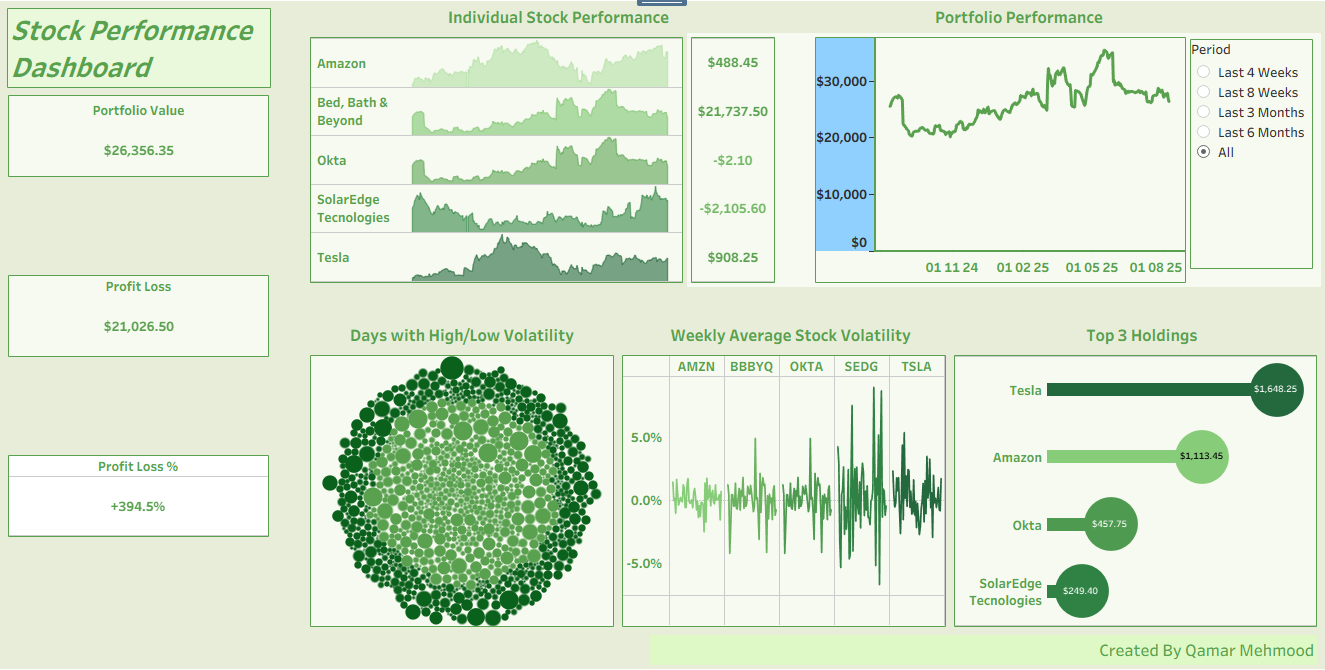

The page's visual inventory and layout, read from the dashboard file:
{"tool":"tableau","page":{"name":"Dashboard 1","canvas":[1000,1000],"units":"permille","ordinal":0},"visuals":[{"type":"text","box":[249.5,11.7,354.9,46.8]},{"type":"text","box":[604.4,11.7,292.1,46.8]},{"type":"text","box":[39.4,21.9,185.5,117]},{"type":"worksheet","title":"Stock Area chart","mark":"Area","rows":["Calculation_1162491695079321600","Close"],"cols":["Day"],"box":[249.5,58.5,267.9,371.3]},{"type":"worksheet","title":"P/L","mark":"Automatic","rows":["Stock"],"box":[517.3,58.5,64.7,371.3]},{"type":"worksheet","title":"Portfolio Line Chart","mark":"Automatic","rows":["Calculation_1162491695132364805"],"cols":["Day"],"box":[604.5,58.5,266.3,371.3]},{"type":"parameter","param":"[Parameters].[Parameter 1]","box":[870.7,67.2,86.4,336.3]},{"type":"worksheet","title":"Portfolio Value Card","mark":"Automatic","cols":["Calculation_557883445405663234"],"box":[37.2,143.3,189,131.6]},{"type":"worksheet","title":"Profit/Loss Card","mark":"Automatic","cols":["Calculation_557883445407555587"],"box":[37.2,406.4,189,131.6]},{"type":"text","box":[249.5,476.6,219.3,46.8]},{"type":"text","box":[468.7,476.6,242.4,46.8]},{"type":"text","box":[711.1,476.6,251.6,46.8]},{"type":"worksheet","title":"Bubble Chart","mark":"Circle","box":[249.5,523.4,219.3,409.4]},{"type":"worksheet","title":"Volatility Chart","mark":"Automatic","rows":["Daily % Change"],"cols":["Stock","week"],"box":[468.7,523.4,233.3,409.4]},{"type":"worksheet","title":"Lolipop Chart","mark":"Automatic","rows":["Calculation_1162491695079321600"],"cols":["Calculation_1162491695100203011","Calculation_1162491695100203011"],"box":[702,523.4,260.7,409.4]},{"type":"worksheet","title":"Profit Loss % Card ","mark":"Automatic","cols":["Calculation_557883445410455557"],"box":[37.2,669.6,189,131.6]},{"type":"text","box":[488.5,932.7,474.2,55.6]}]}

Visuals, with their boxes on the dashboard's canvas, which has no fixed pixel size, in thousandths of its width and height (x1, y1, x2, y2). These are canvas units, not pixel positions in the 1325x670 screenshot, which may show the page scaled, cropped or inside an application window:
text: 250/12/604/58
text: 604/12/896/58
text: 39/22/225/139
"Stock Area chart" worksheet (Area marks): 250/58/517/430
"P/L" worksheet: 517/58/582/430
"Portfolio Line Chart" worksheet: 604/58/871/430
parameter: 871/67/957/404
"Portfolio Value Card" worksheet: 37/143/226/275
"Profit/Loss Card" worksheet: 37/406/226/538
text: 250/477/469/523
text: 469/477/711/523
text: 711/477/963/523
"Bubble Chart" worksheet (Circle marks): 250/523/469/933
"Volatility Chart" worksheet: 469/523/702/933
"Lolipop Chart" worksheet: 702/523/963/933
"Profit Loss % Card " worksheet: 37/670/226/801
text: 488/933/963/988
